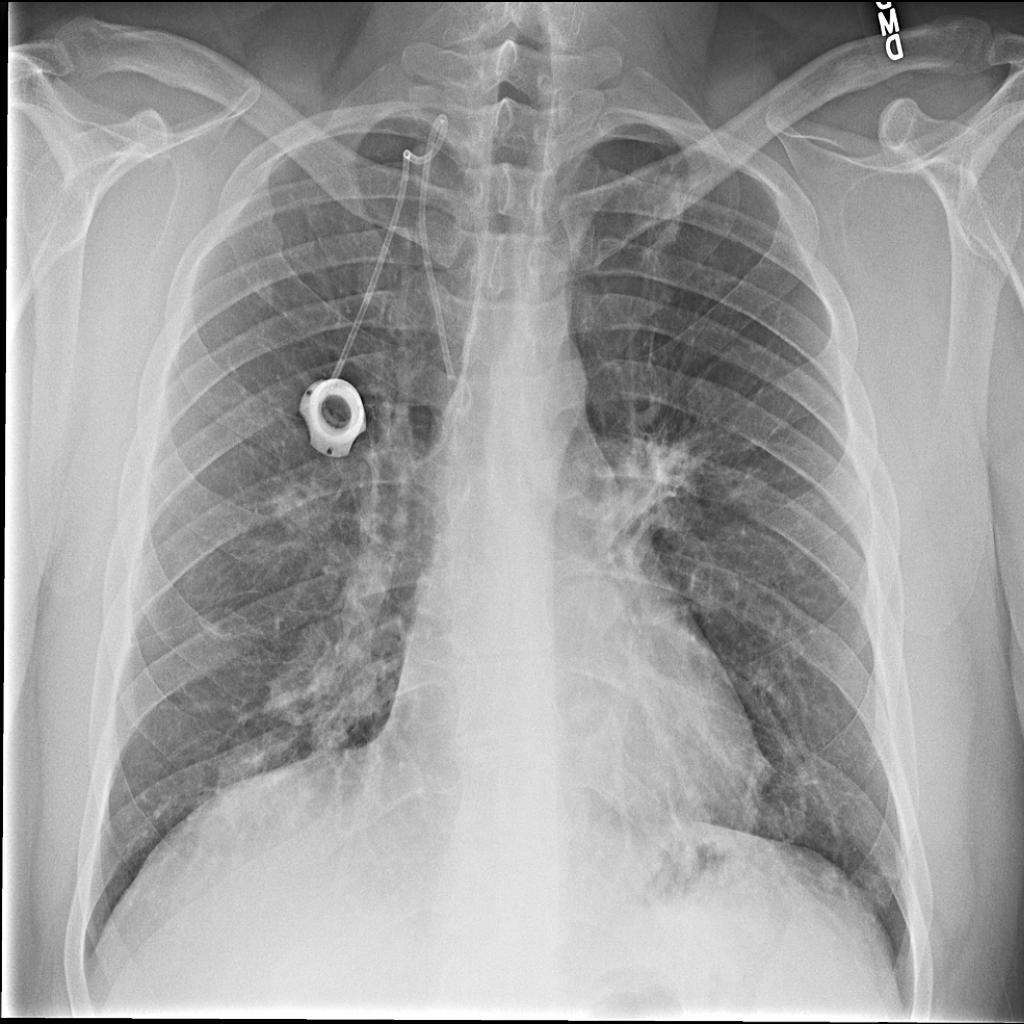Nodule: (261, 606, 406, 737), (206, 725, 307, 844), (254, 475, 339, 549)
